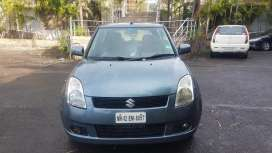license_plate: (115, 112, 148, 125)
